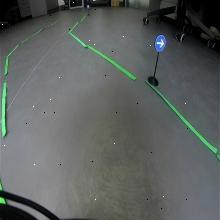right: (154, 33, 166, 52)
